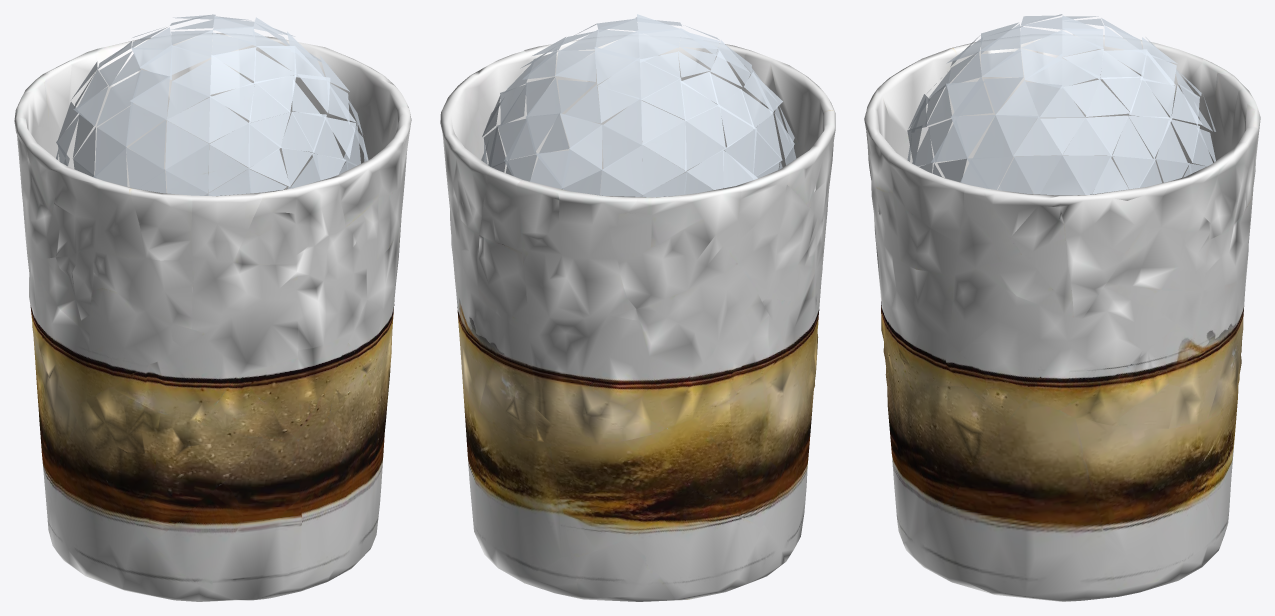
Rendered from old-fashioned.glb.
3 views of the same model, side by side, from view 1: azimuth 30°, elevation 25°; view 2: azimuth 150°, elevation 25°; view 3: azimuth 270°, elevation 25° (orthographic).
Visible parts, largest first — view 1: mesh_node, ice-sphere; view 2: mesh_node, ice-sphere; view 3: mesh_node, ice-sphere.
Boxes of the visible parts, x1,y1,x2,y2 form: mesh_node: (14, 33, 411, 601); ice-sphere: (56, 14, 368, 196); mesh_node: (440, 35, 835, 601); ice-sphere: (481, 14, 796, 197); mesh_node: (864, 34, 1260, 601); ice-sphere: (907, 14, 1215, 195).
Bounding box in the file's own units: 0.0766 × 0.1085 × 0.0768.
2 materials, 1 textured.
